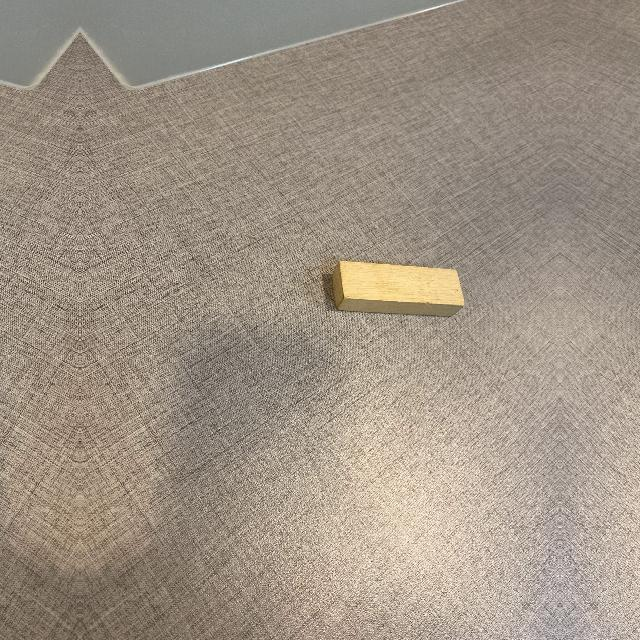jenga: (326, 260, 465, 319)
